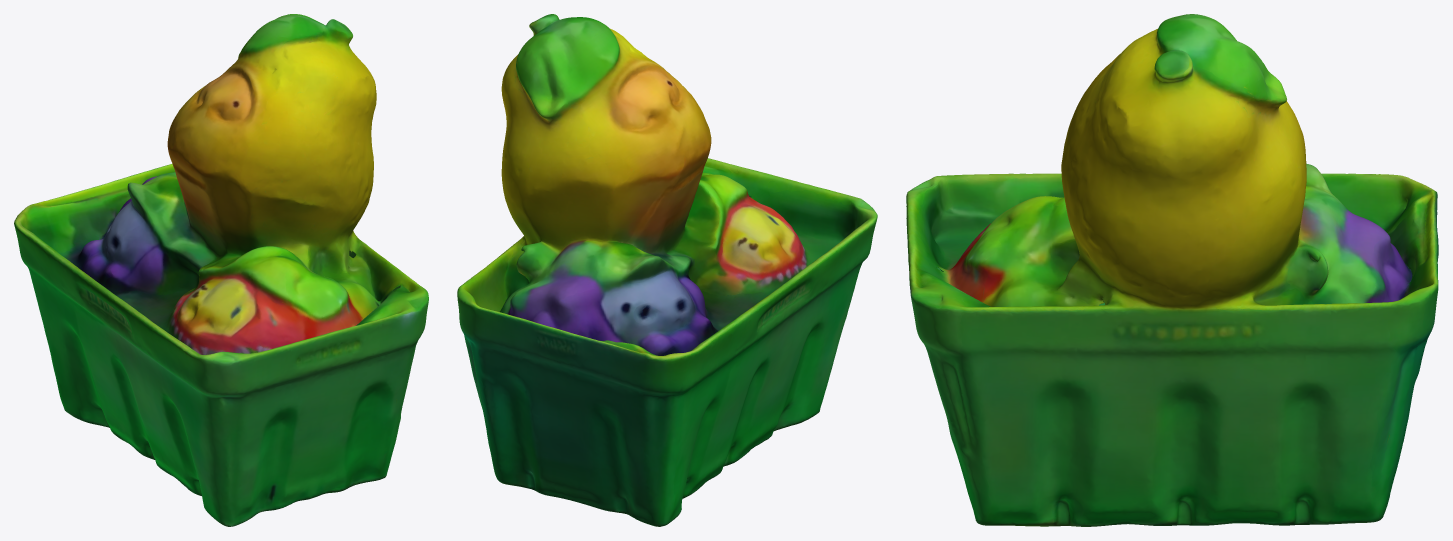
The model's file is Squirt_Strain_Fruit_Basket.glb.
3 views of the same model, side by side, from view 1: azimuth 30°, elevation 25°; view 2: azimuth 150°, elevation 25°; view 3: azimuth 270°, elevation 25° (orthographic). The views are drawn at different scales.
Parts seen in each view (by area): view 1: geometry_0; view 2: geometry_0; view 3: geometry_0.
Part boxes in pixels (bbox=[...]): geometry_0: bbox=[14, 14, 428, 526]; geometry_0: bbox=[457, 14, 877, 526]; geometry_0: bbox=[906, 14, 1438, 526].
Size of the model in its own units: 0.6814 by 1 by 0.9405.
Materials: 1 (1 with a texture image).
